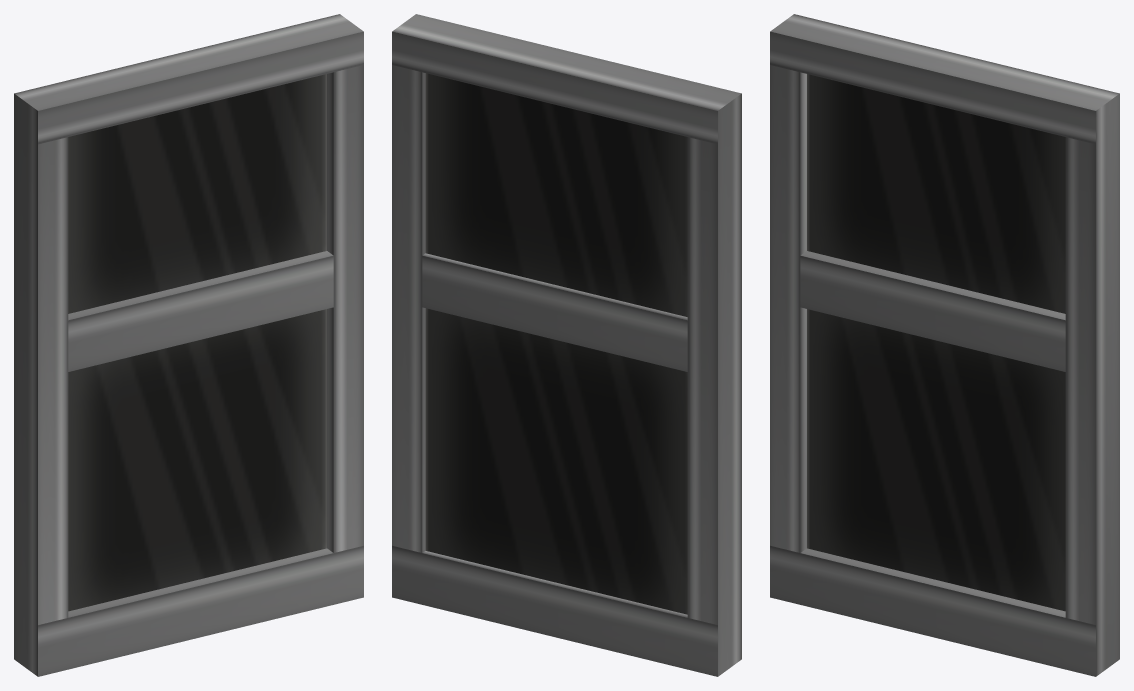
Rendered from Door_Metal.fbx.
3 renders of one model, left to right at view 1: azimuth 30°, elevation 25°; view 2: azimuth 150°, elevation 25°; view 3: azimuth 330°, elevation 25°, orthographic.
Visible parts, largest first — view 1: Door_Metal_1; view 2: Door_Metal_1; view 3: Door_Metal_1.
Boxes of the visible parts, box(x1,y1,x2,y2) form: Door_Metal_1: box(14, 14, 363, 676); Door_Metal_1: box(392, 14, 741, 676); Door_Metal_1: box(770, 14, 1119, 676).
Bounding box in the file's own units: 194 × 322 × 24.71.
